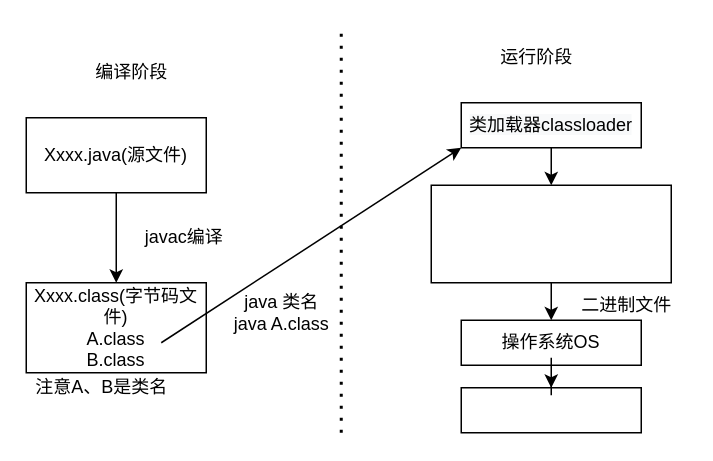
Image size: 713x461. Some labels were removed from this diagram. The shapes that lost their labels are listed below. From the top down, each one's centre as x and y in pixels, then its label:
the point at 550,233: java虚拟机 A.class->Java解释器
the point at 550,409: 硬件平台
